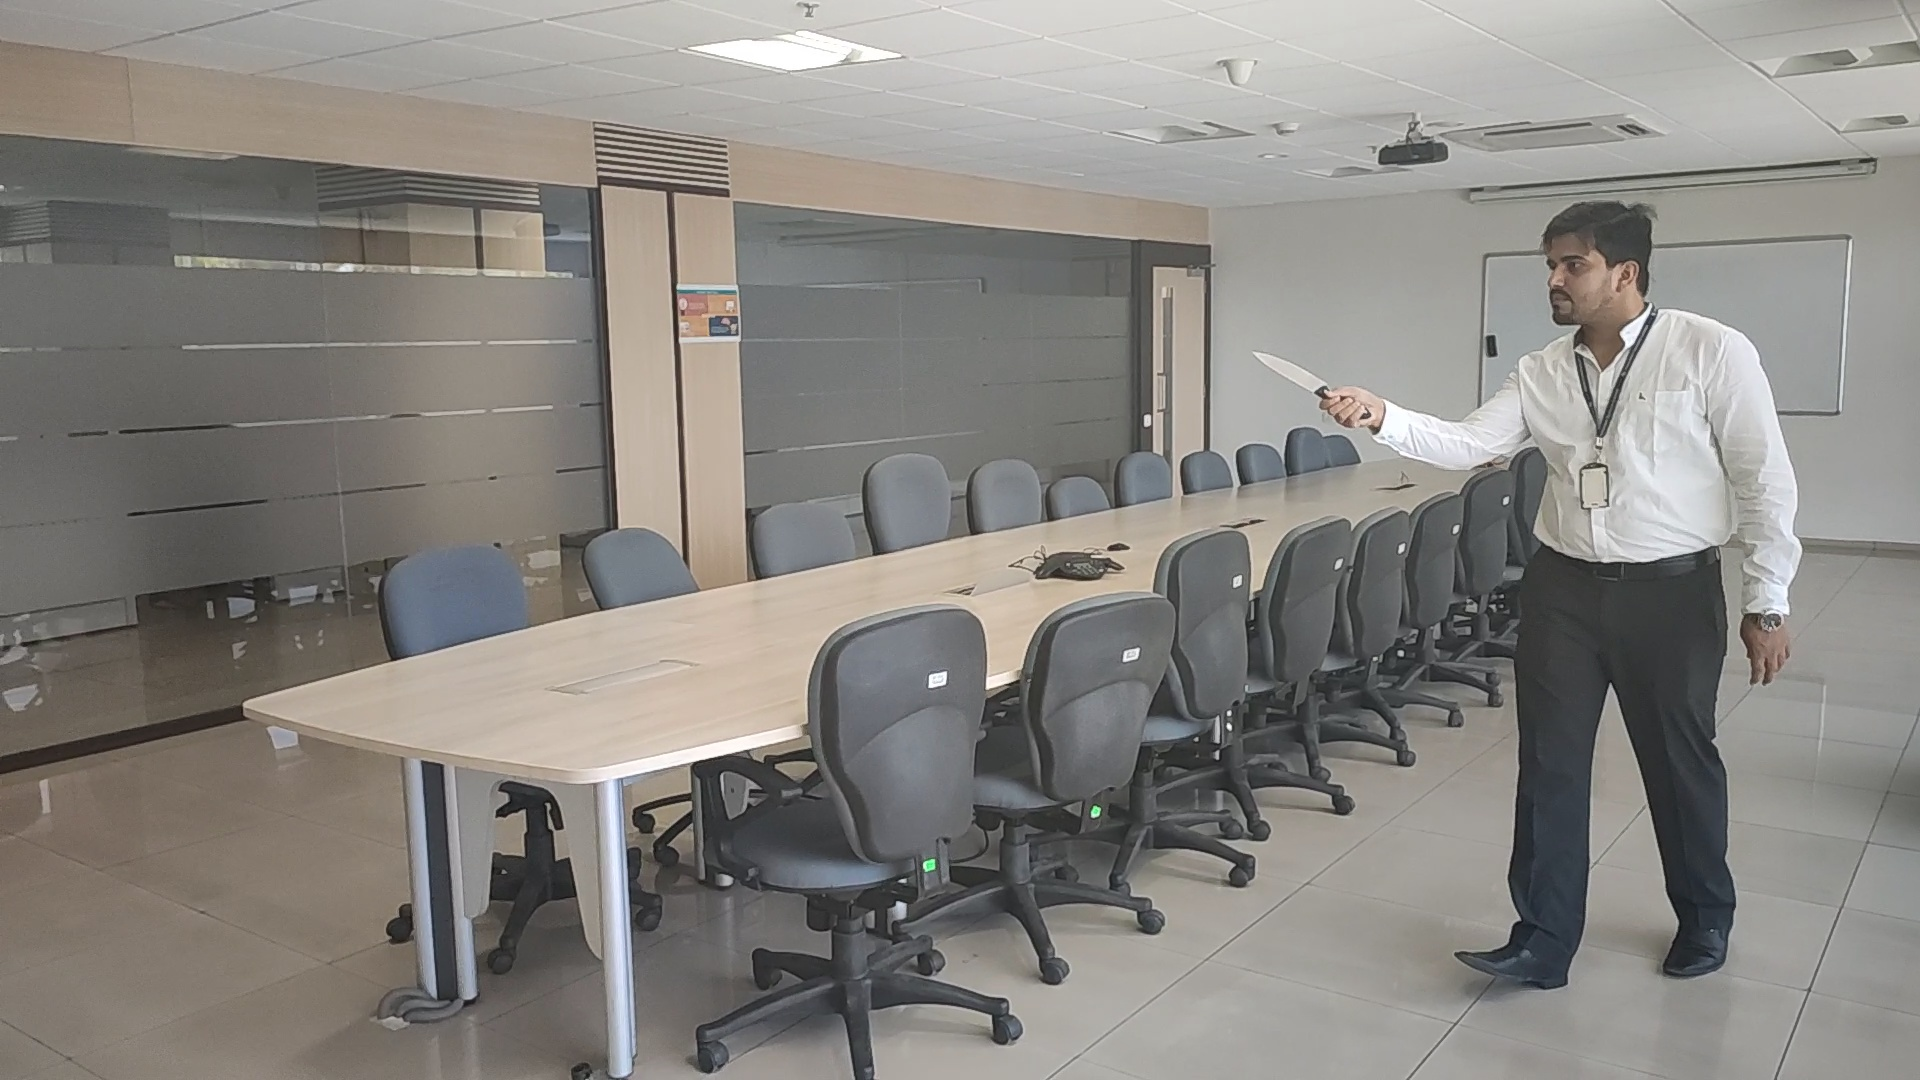knife: (1251, 349, 1335, 405)
